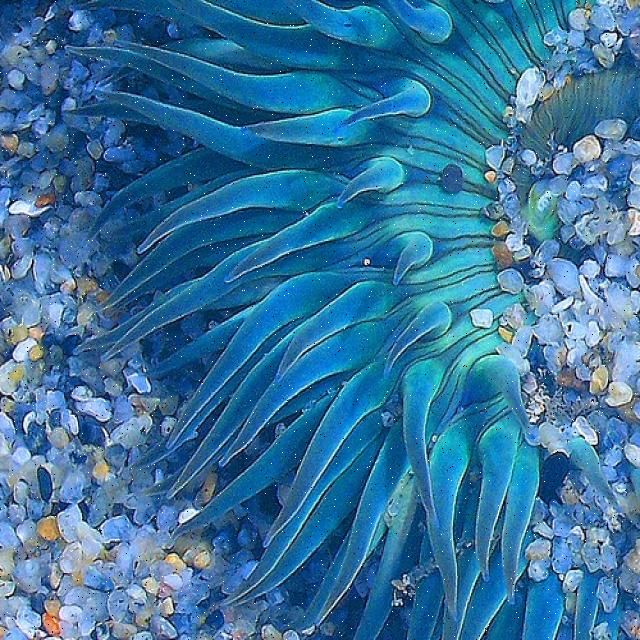reefs: (59, 0, 639, 639)
